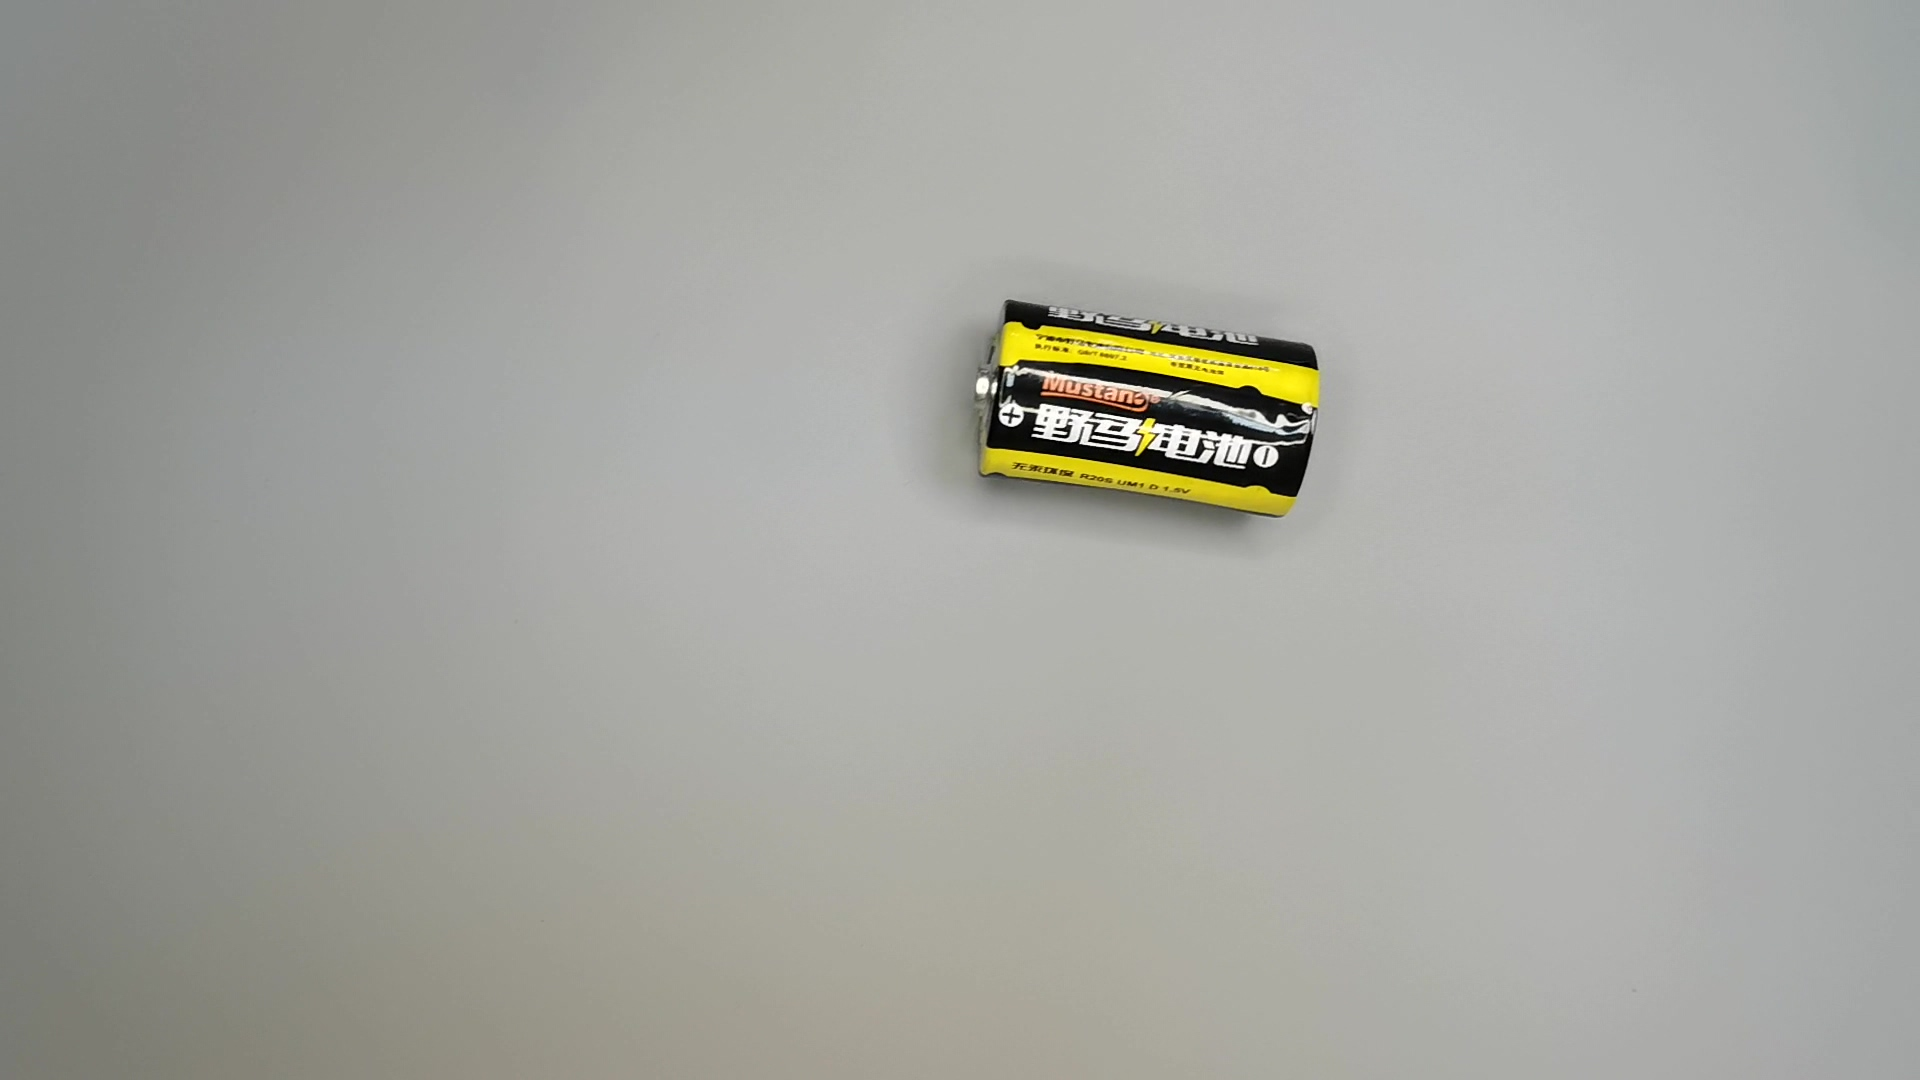battery: (969, 291, 1329, 531)
